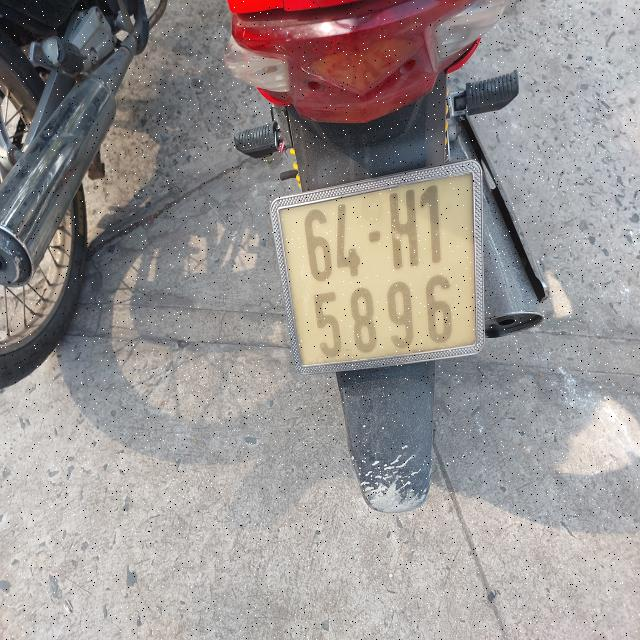1: (420, 184, 442, 266)
4: (334, 201, 362, 282)
5: (312, 291, 343, 358)
6: (303, 206, 333, 284), (425, 272, 455, 343)
8: (350, 286, 378, 354)
9: (386, 280, 415, 350)
H: (388, 189, 419, 273)
